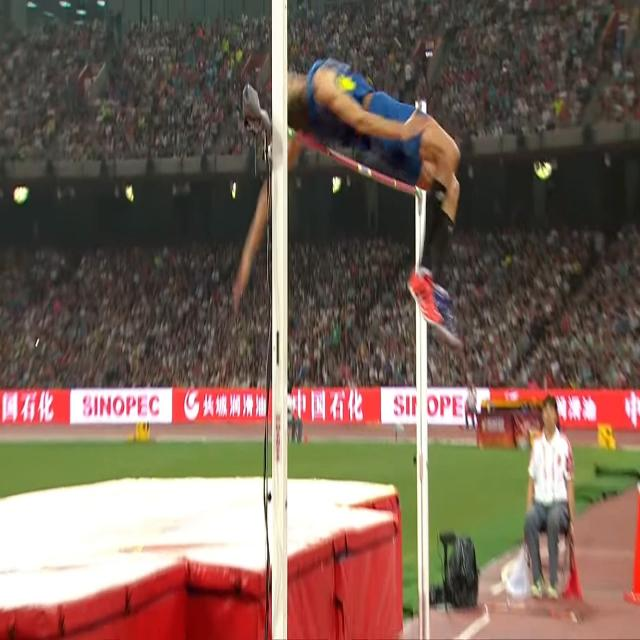jump: (233, 59, 459, 350)
